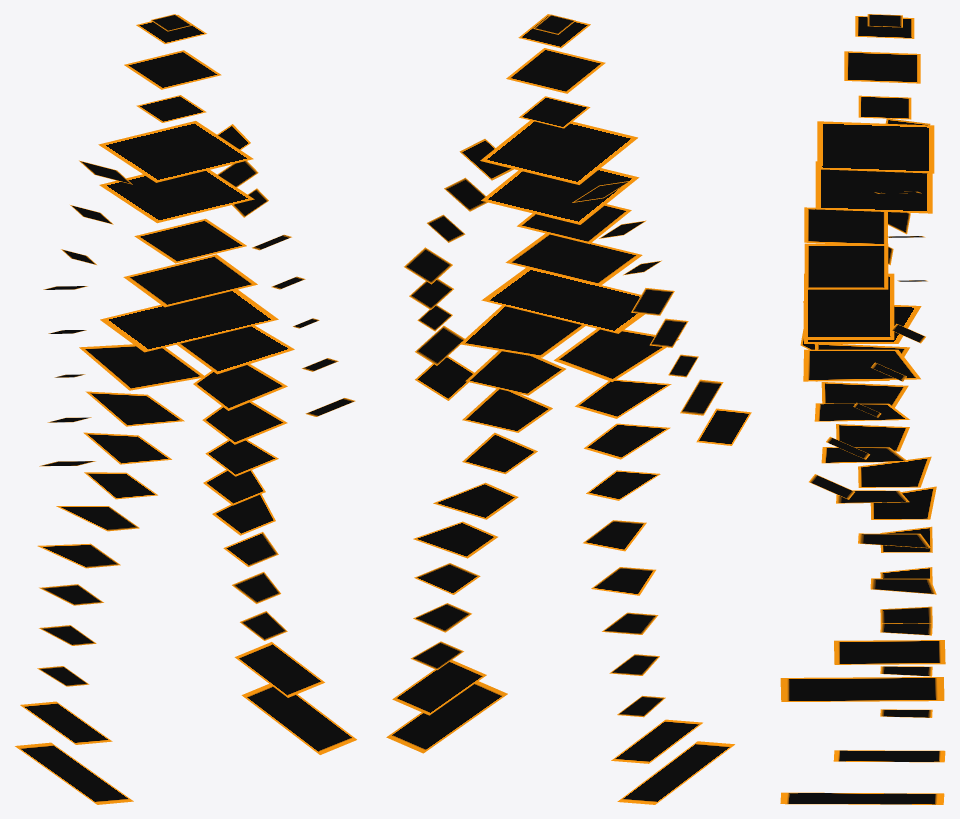
File: ps2_save-icons_rez.glb
The picture shows the model from 3 angles, left to right: view 1: azimuth 30°, elevation 25°; view 2: azimuth 150°, elevation 25°; view 3: azimuth 270°, elevation 25°; orthographic projection.
Visible parts, largest first — view 1: Rez; view 2: Rez; view 3: Rez.
Part boxes in pixels (x1,y1,x2,y2): Rez: [15, 14, 356, 804]; Rez: [386, 14, 751, 804]; Rez: [780, 14, 945, 804].
Size of the model in its own units: 2.13 by 4.74 by 0.9766.
Materials: 1 (1 with a texture image).
